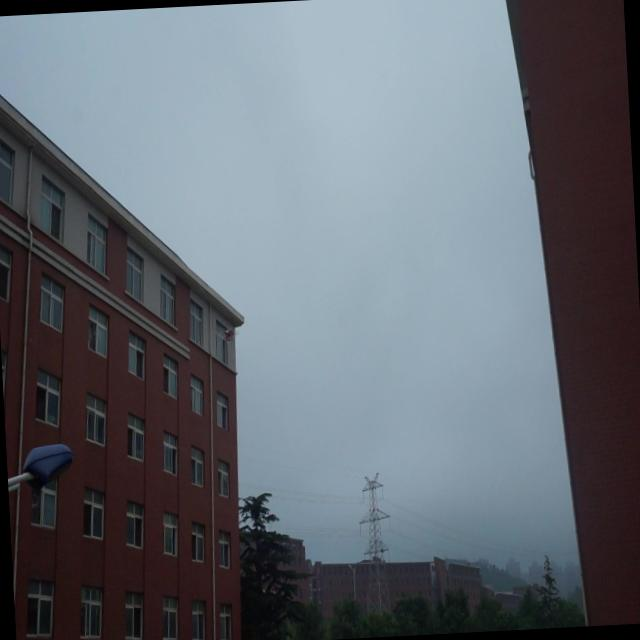drone: (221, 322, 237, 343)
